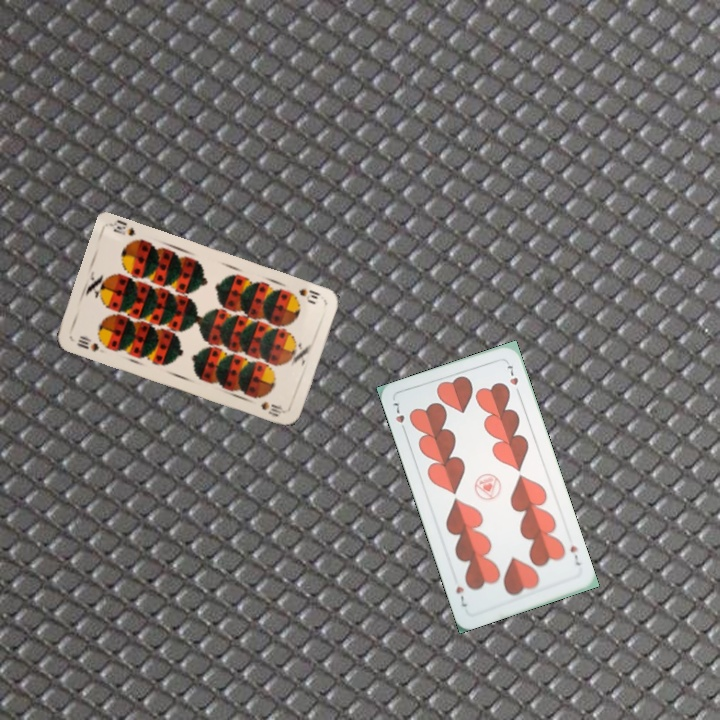H7: (388, 398, 409, 436), (566, 542, 583, 568)
S10: (72, 332, 102, 354), (295, 285, 323, 302)
